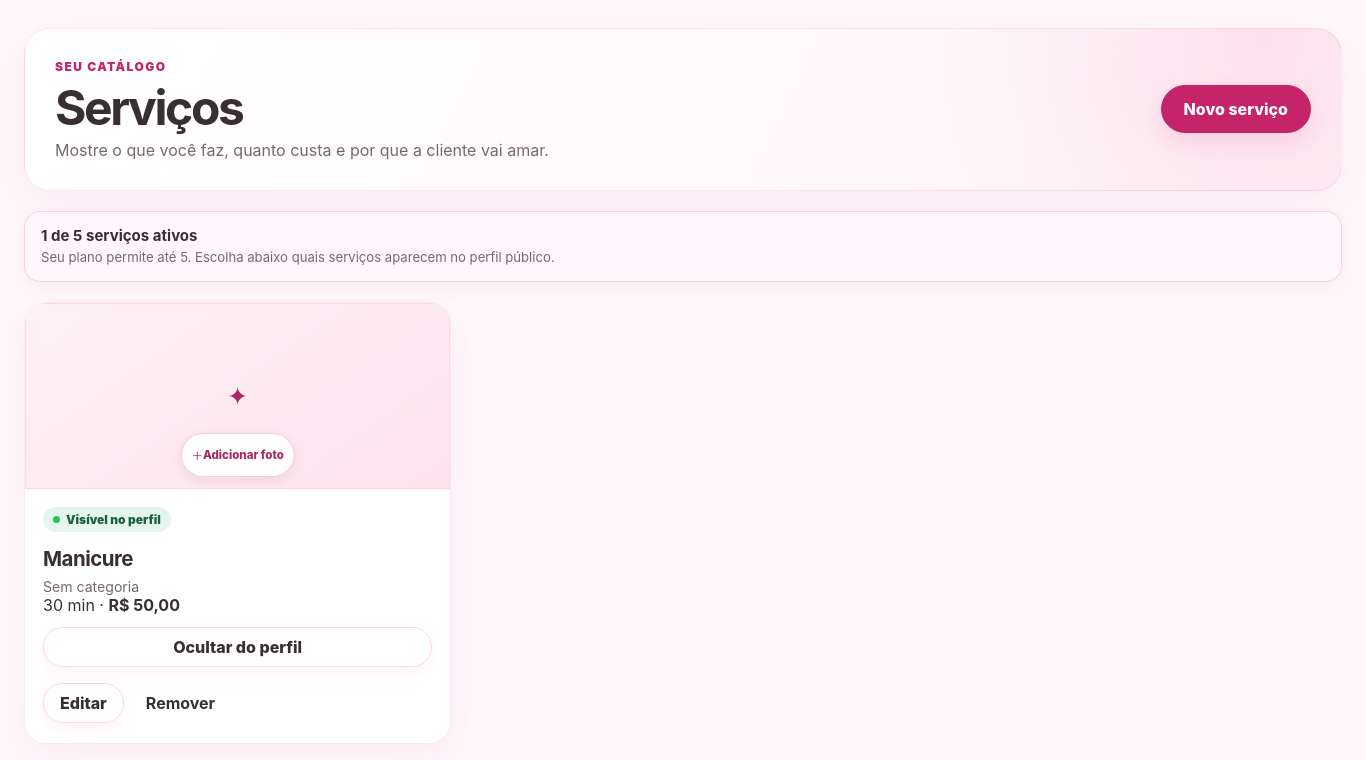
Test: catálogo após remoção incerta › exige apenas GET para recuperar a remoção aplicada=true, inclusive após falha da leitura
Click the button "Remover" at (180, 703), box [134,681,227,725]
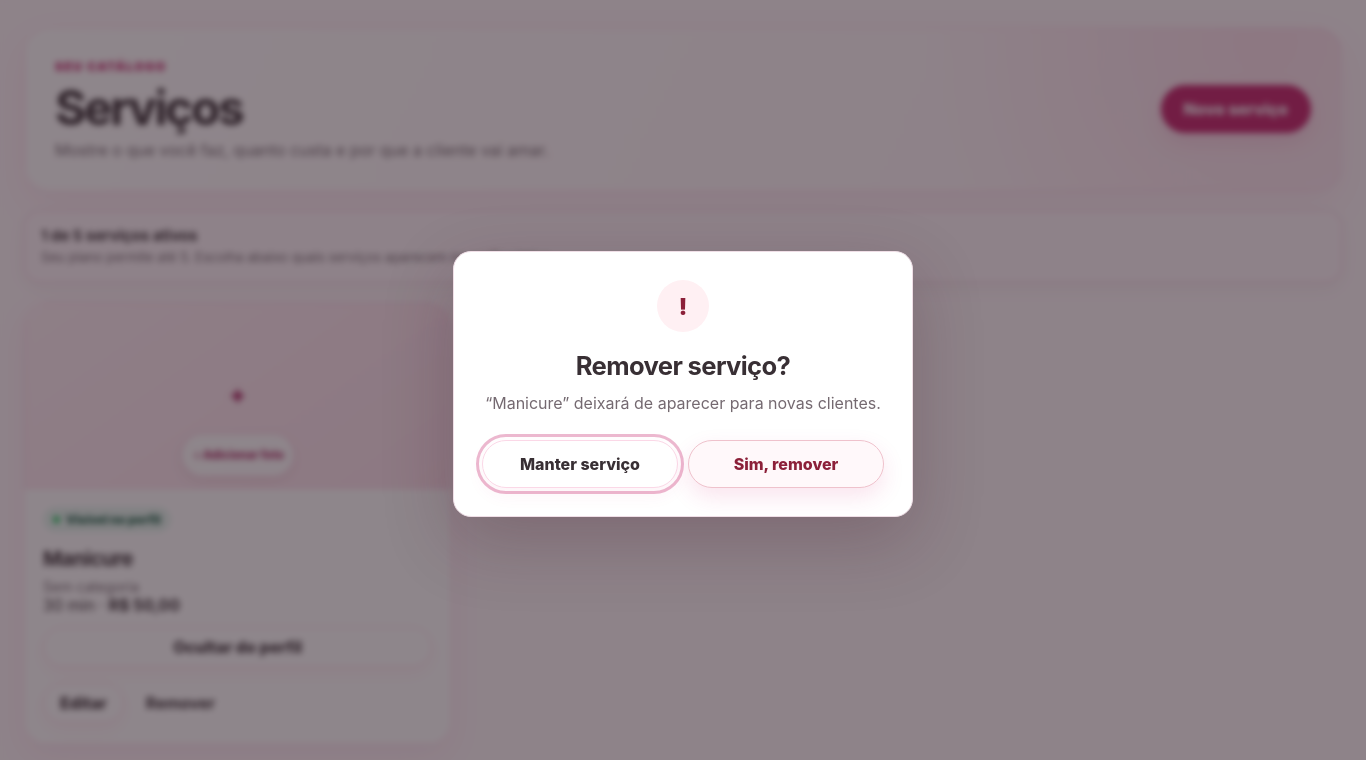
Click the button "Sim, remover" at (786, 464), box [688,440,884,488]
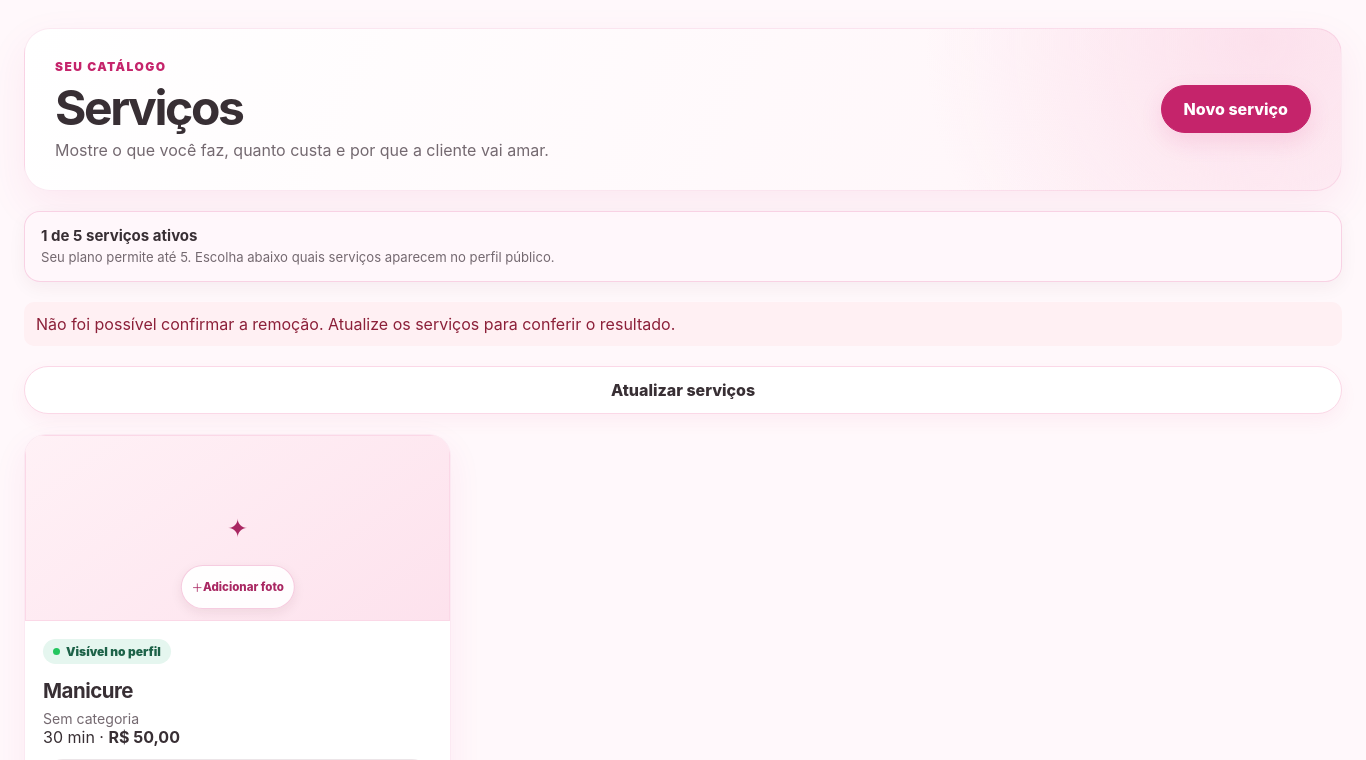
Check: the text "Não foi possível confirmar a remoção" is shown, box [36,314,675,334]
Click the button "Atualizar serviços" at (683, 390), box [24,366,1342,414]
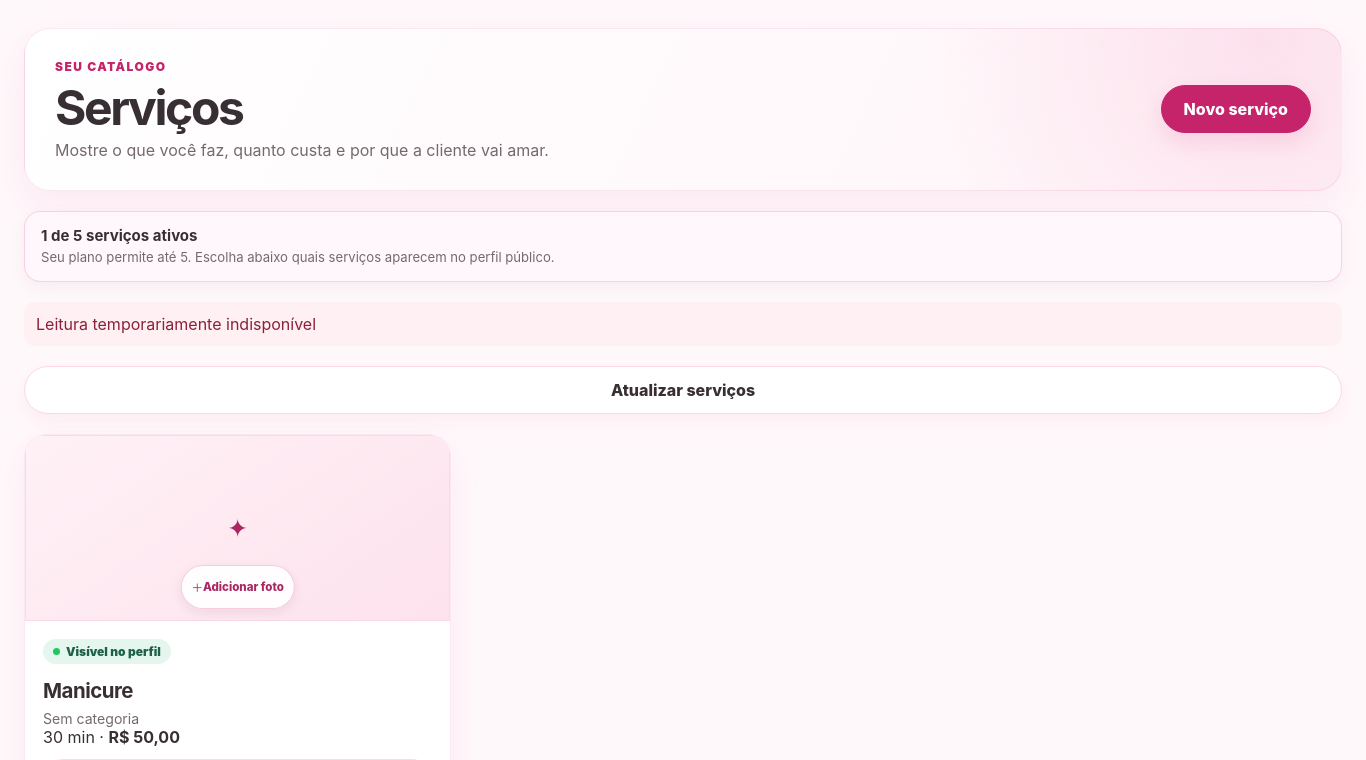
Check: the text "Leitura temporariamente indisponível" is shown, box [24,302,1342,346]
Click the button "Atualizar serviços" at (683, 390), box [24,366,1342,414]
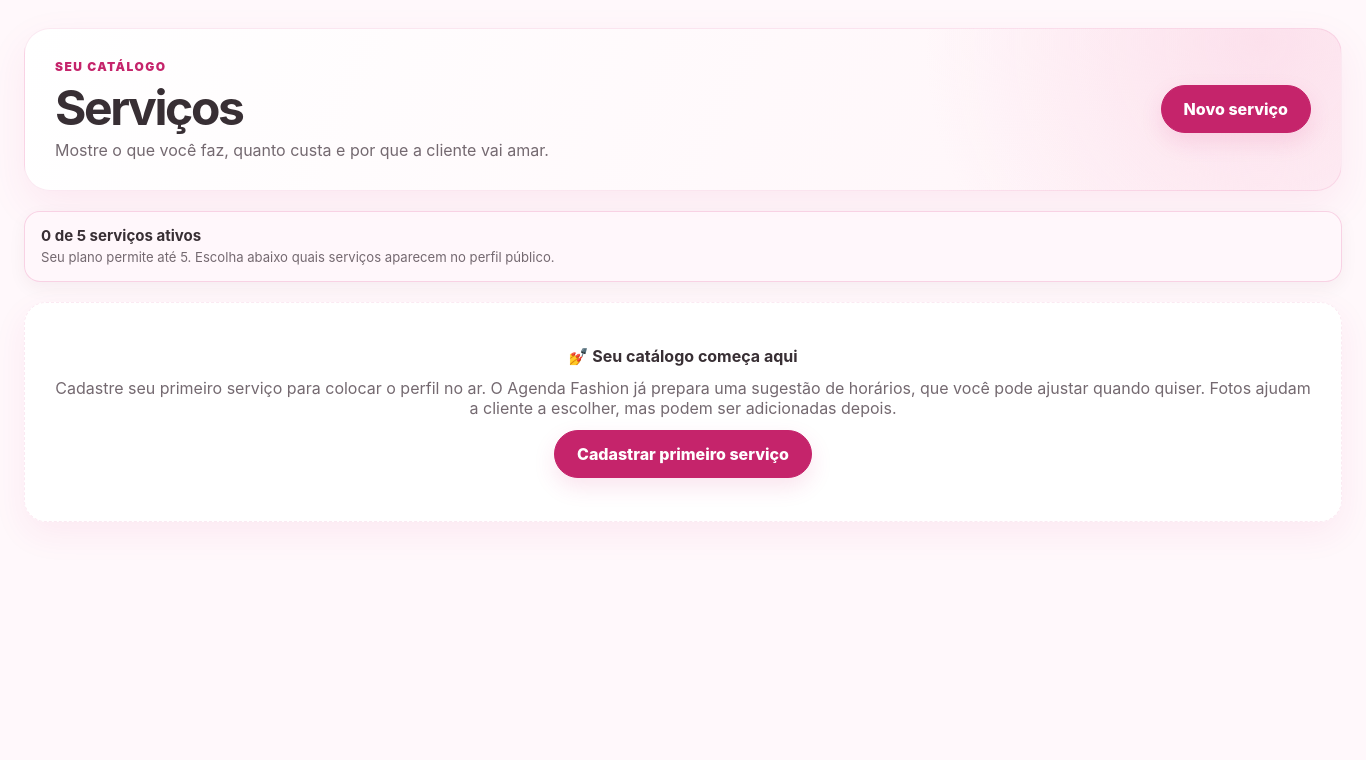
Check: the button "Atualizar serviços" is gone
Check: the heading "Manicure" is gone
